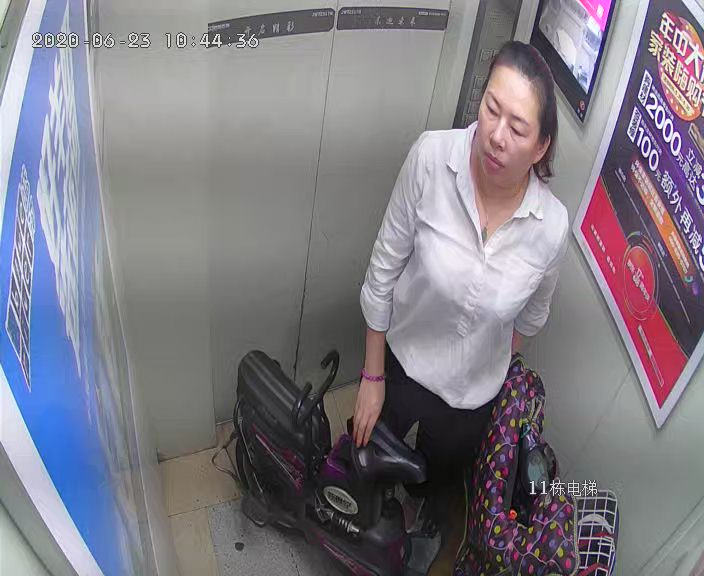Electric-bicycle: (225, 345, 619, 571)
